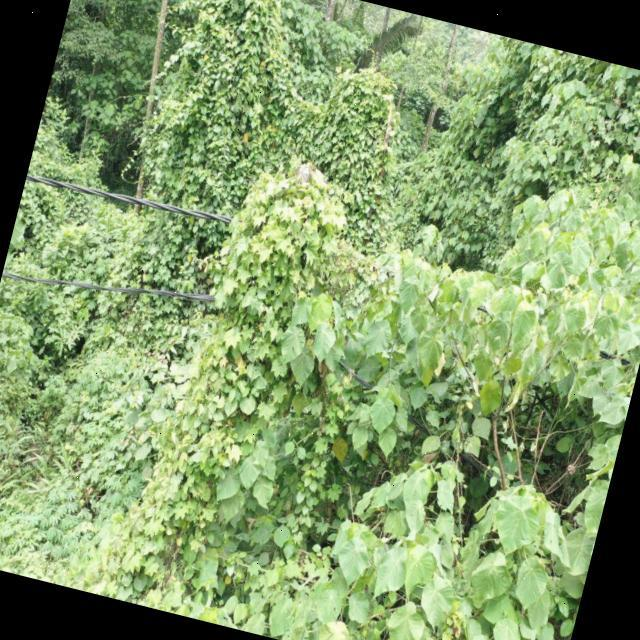critical vegetation: (155, 136, 392, 514)
